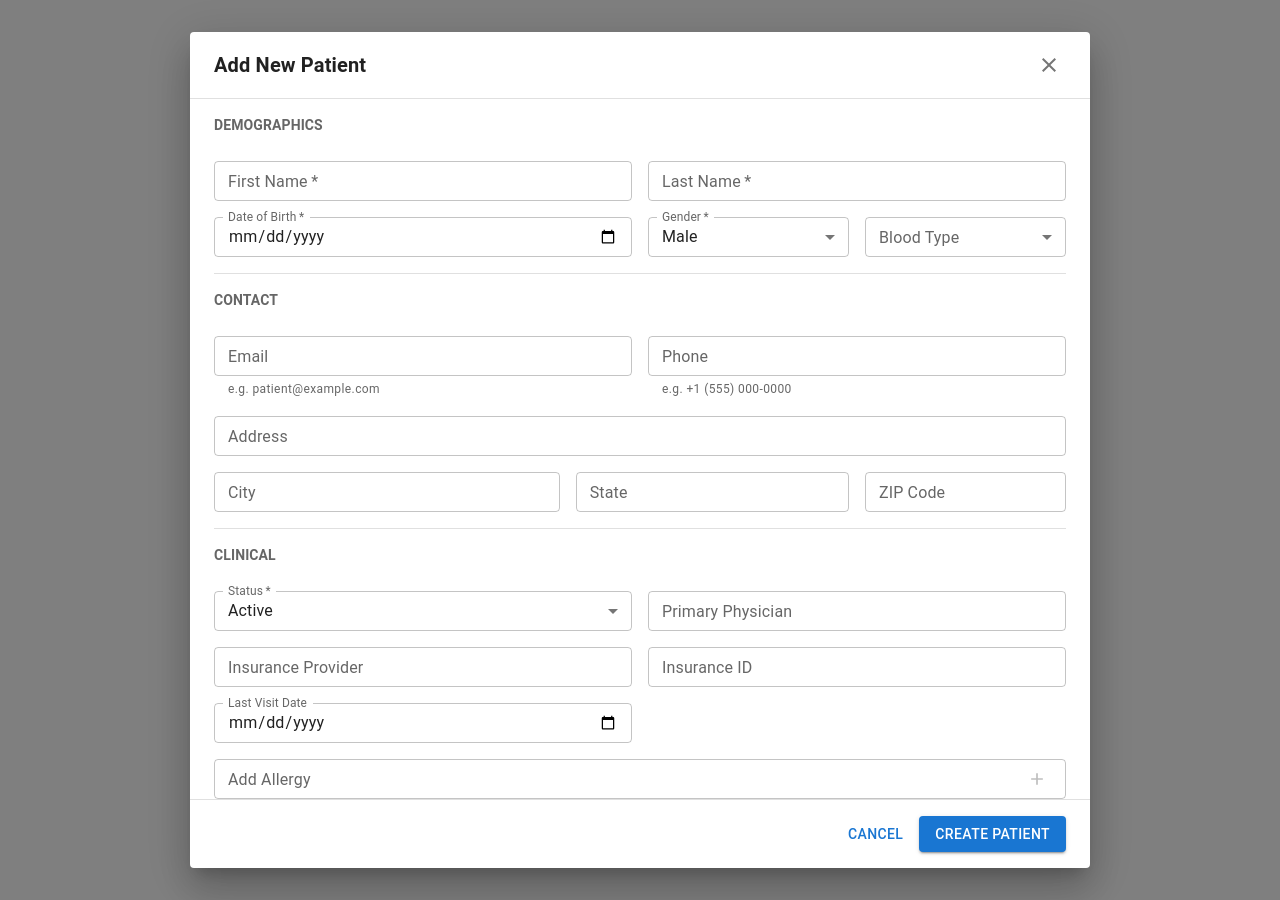
Test: PatientFormDialog › shows "First name is required" when submitting with empty first name
Type "Smith" into the field labelled "Last Name *" at coordinates (857, 181), box [648, 161, 1066, 201]
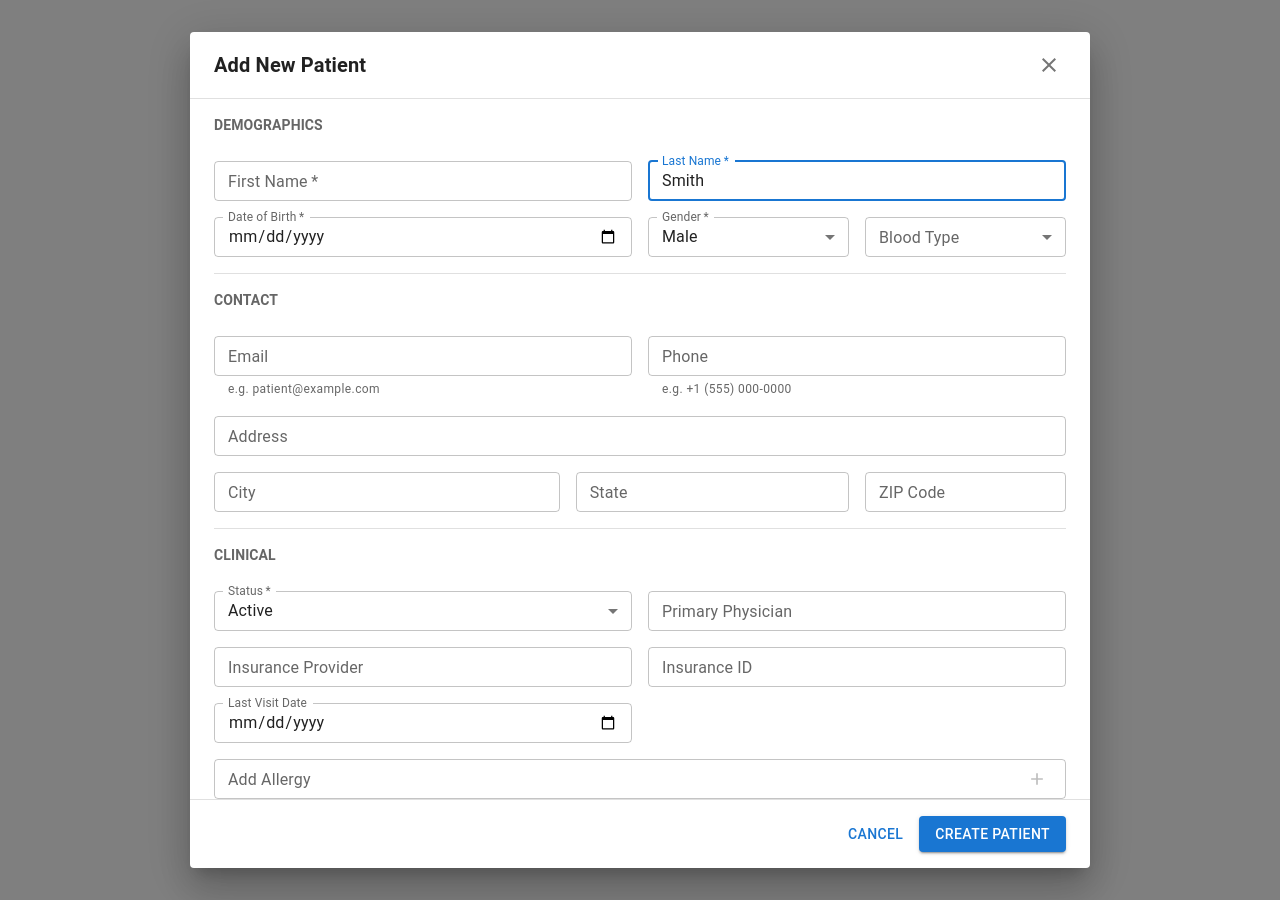
Type "1990-05-20" into the date field labelled "Date of Birth *" at coordinates (423, 237), box [214, 217, 632, 257]
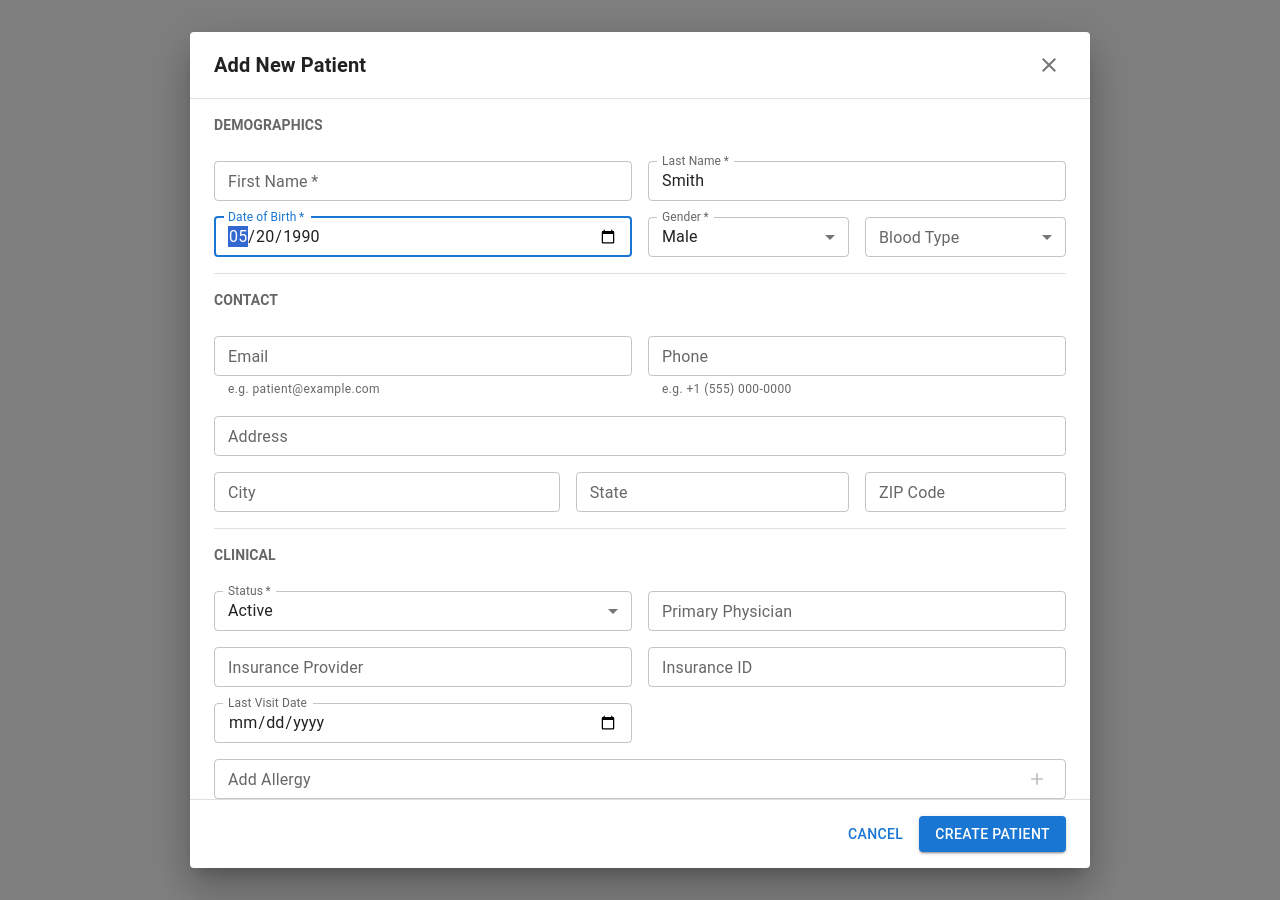
Click the button "Create Patient" at coordinates (993, 834), box [919, 816, 1066, 852]
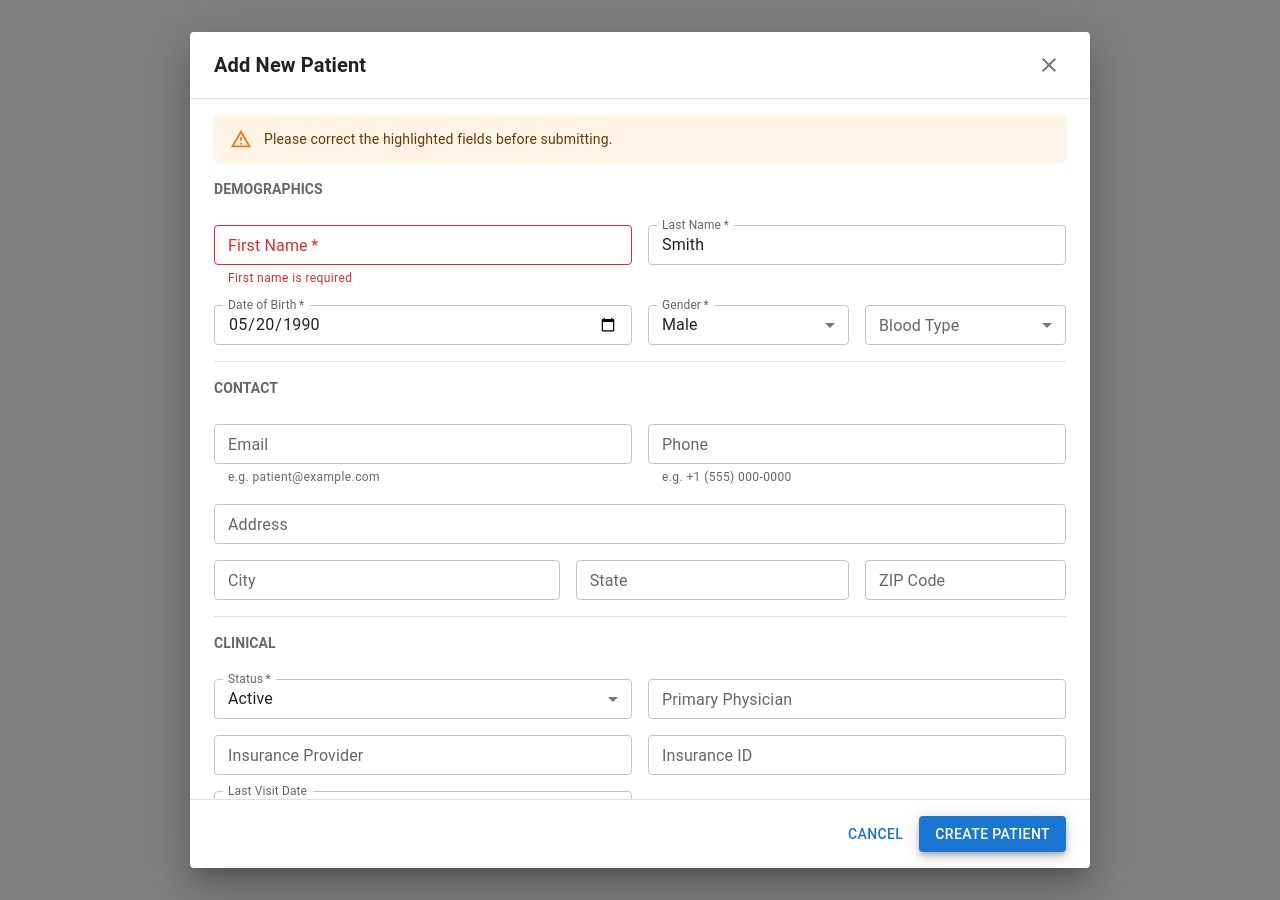
Expected: the text "First name is required" is shown, [228, 271, 352, 285]
